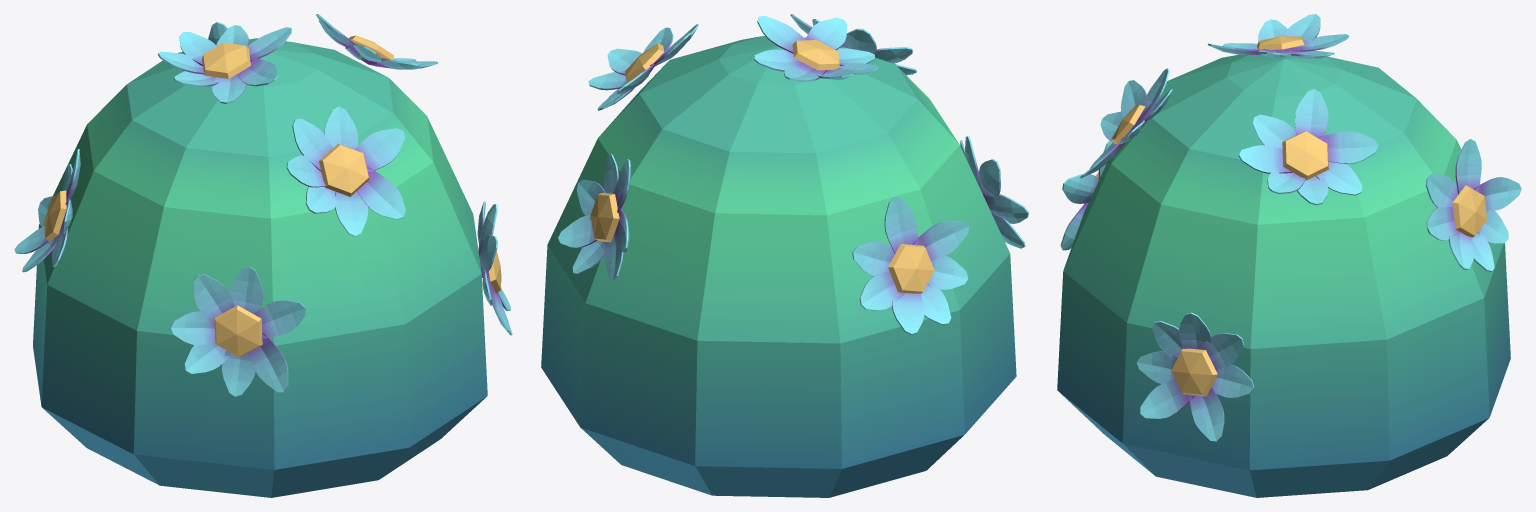
File: bush.obj
The picture shows the model from 3 angles, left to right: view 1: azimuth 30°, elevation 25°; view 2: azimuth 150°, elevation 25°; view 3: azimuth 270°, elevation 25°; orthographic projection. The views are drawn at different scales.
Visible parts, largest first — view 1: bush; view 2: bush; view 3: bush.
Boxes of the visible parts, bbox=[...] form: bush: bbox=[14, 14, 512, 497]; bush: bbox=[541, 14, 1028, 497]; bush: bbox=[1057, 14, 1521, 497].
Bounding box in the file's own units: 3.58 × 3.46 × 3.52.
Materials: 1 (1 with a texture image).
